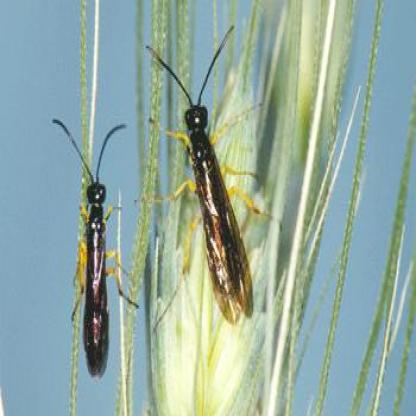sawfly: (141, 21, 276, 333), (48, 110, 145, 388)
